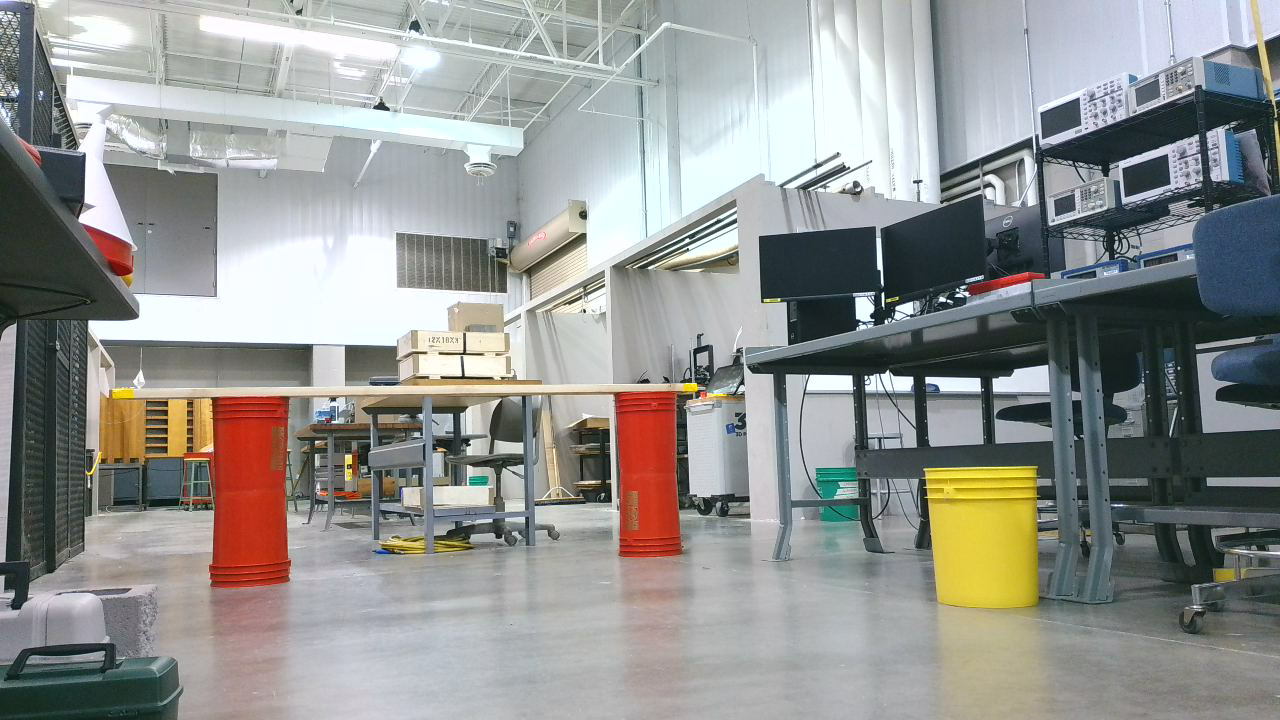red_bucket_arch: (208, 377, 691, 596)
yellow_bucket: (925, 464, 1059, 617)
